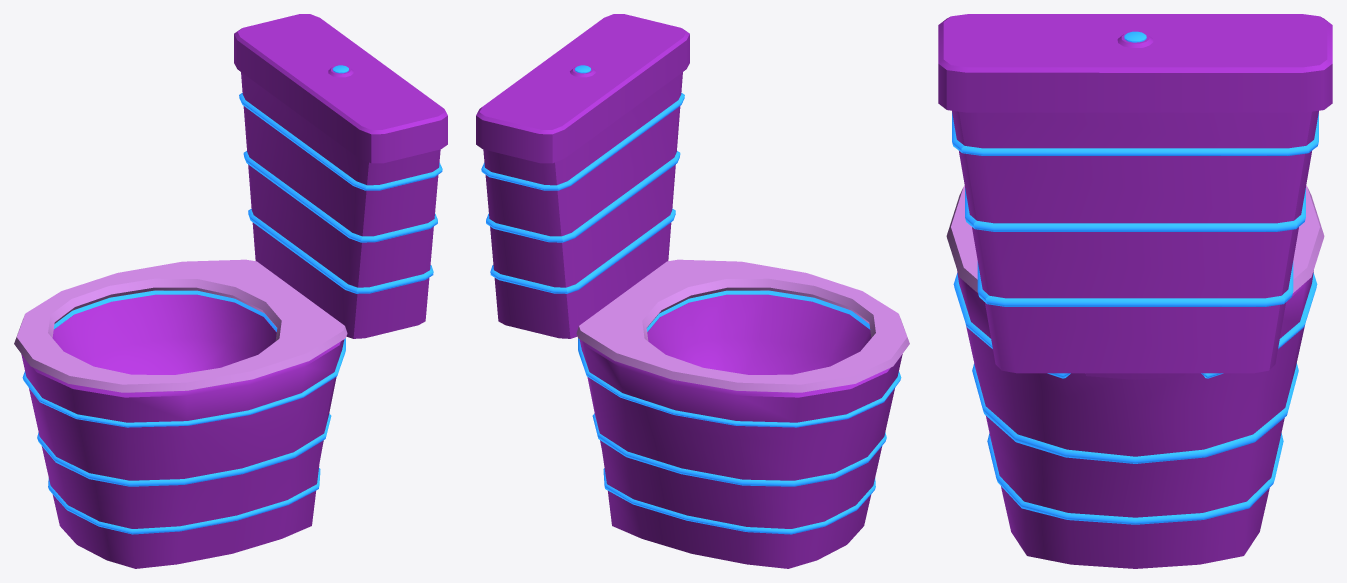
The model's file is toilet.cyberpunk.fbx.
The picture shows the model from 3 angles, left to right: view 1: azimuth 30°, elevation 25°; view 2: azimuth 150°, elevation 25°; view 3: azimuth 270°, elevation 25°; orthographic projection. The views are drawn at different scales.
Visible parts, largest first — view 1: Cube.002; view 2: Cube.002; view 3: Cube.002.
Boxes of the visible parts, x1,y1,x2,y2 form: Cube.002: (14,14,447,568); Cube.002: (476,14,909,568); Cube.002: (938,14,1332,568).
Bounding box in the file's own units: 141 × 158 × 99.57.
